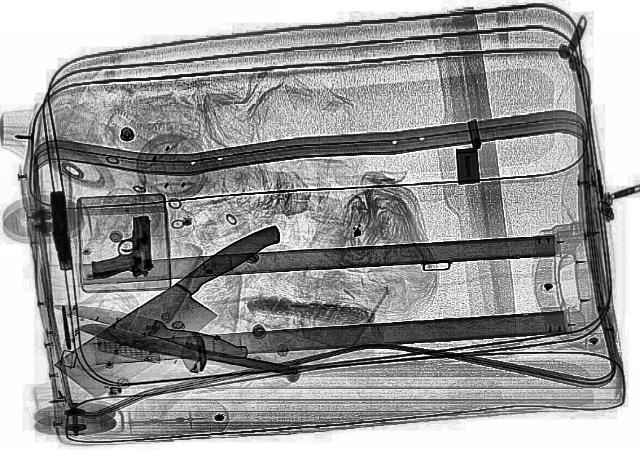Gun: (83, 214, 155, 280), (47, 192, 73, 268)
Knife: (45, 220, 318, 398), (40, 292, 254, 364), (74, 319, 294, 381)
